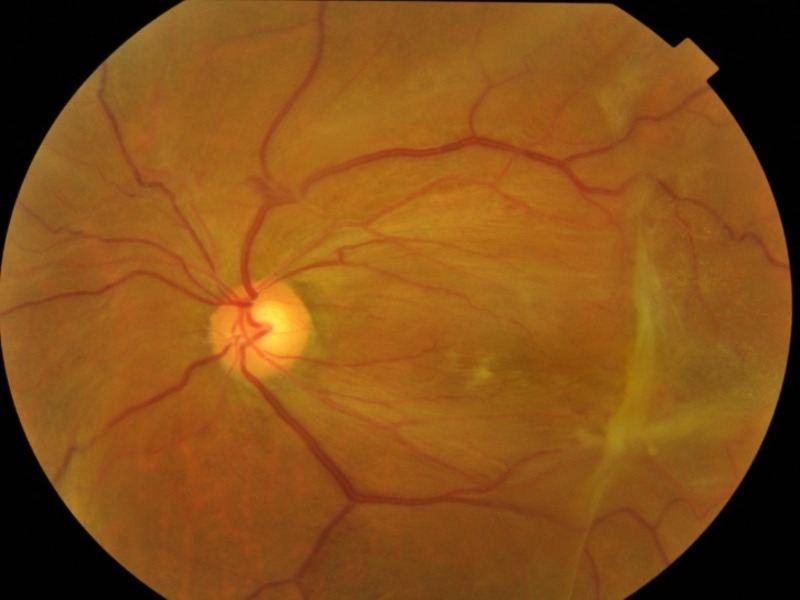Optic Cup: (253, 304, 286, 345)
Optic Disc: (205, 281, 311, 384)
